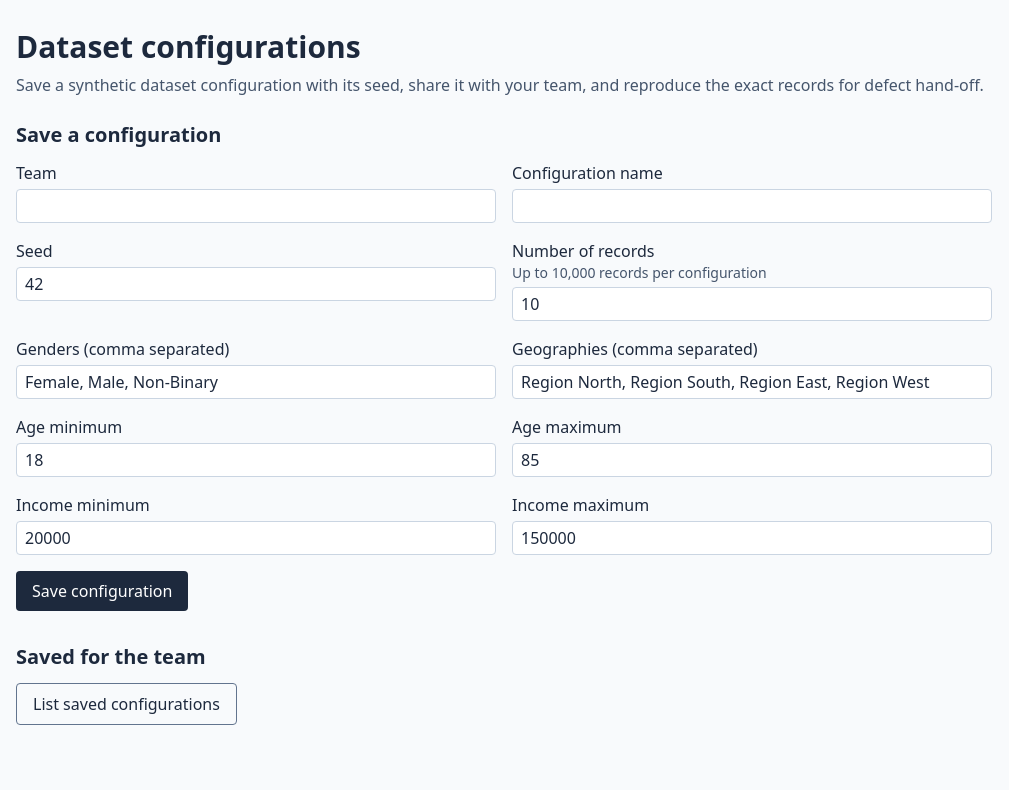
Test: DatasetConfigurationsPage › saves a configuration and lists it for the team afterwards
The image size is (1009, 790).
Type "atlas" into the field labelled "Team" at (256, 206), box [16,189,496,223]
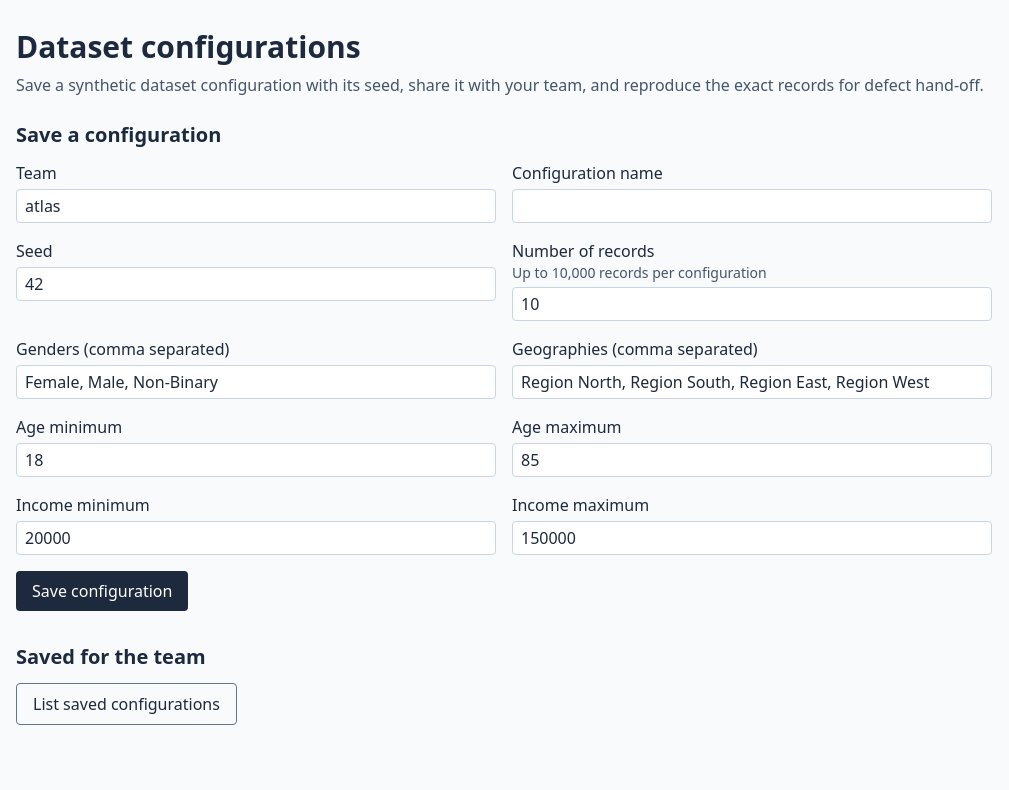
Type "atlas-baseline" into the field labelled "Configuration name" at (752, 206), box [512,189,992,223]
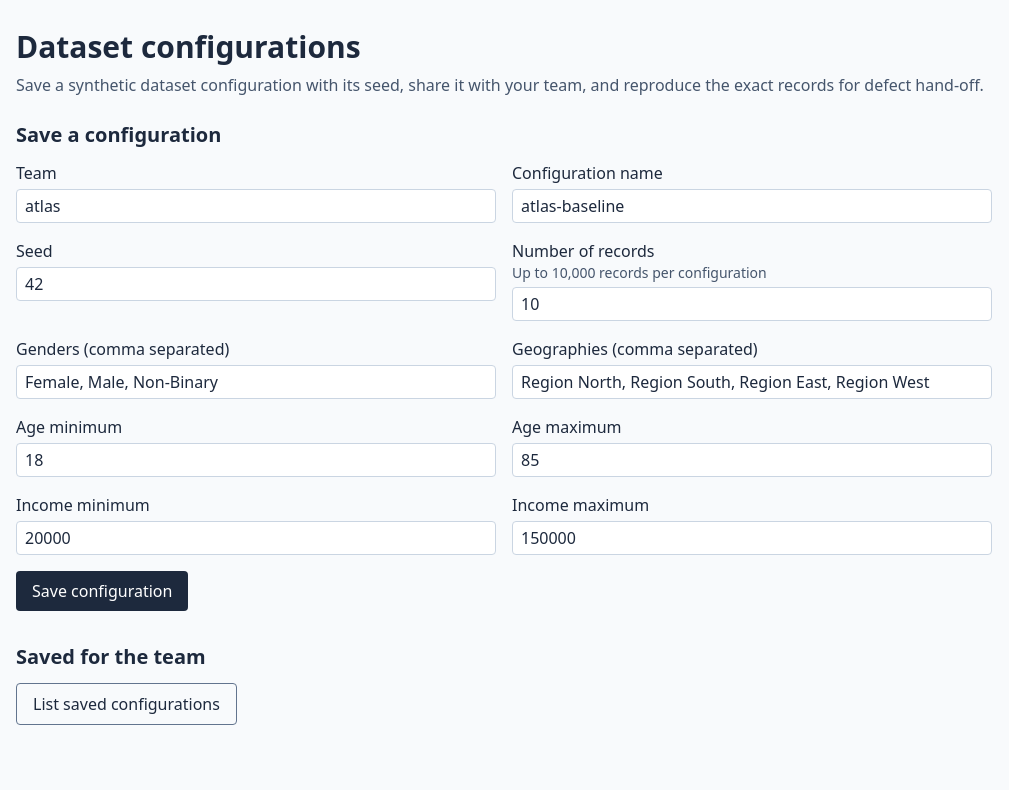
Click the button "Save configuration" at (102, 591), box [16,571,188,611]
(page scrolled)
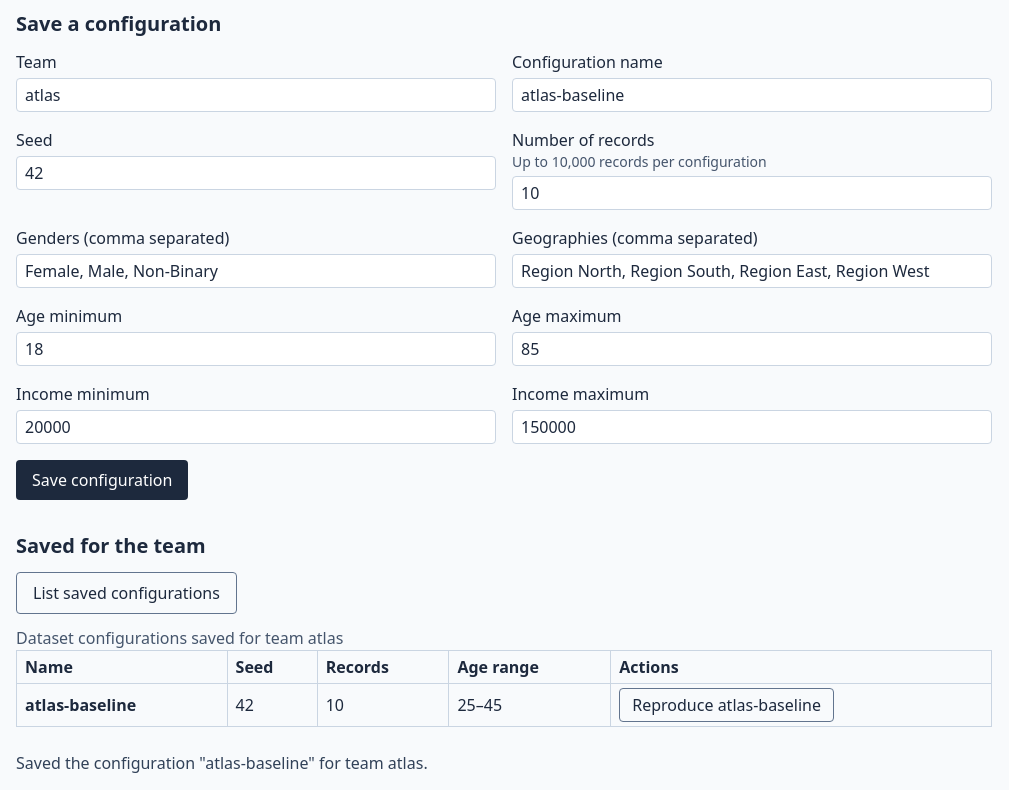
Result: the table is shown at [16,626,992,727]
